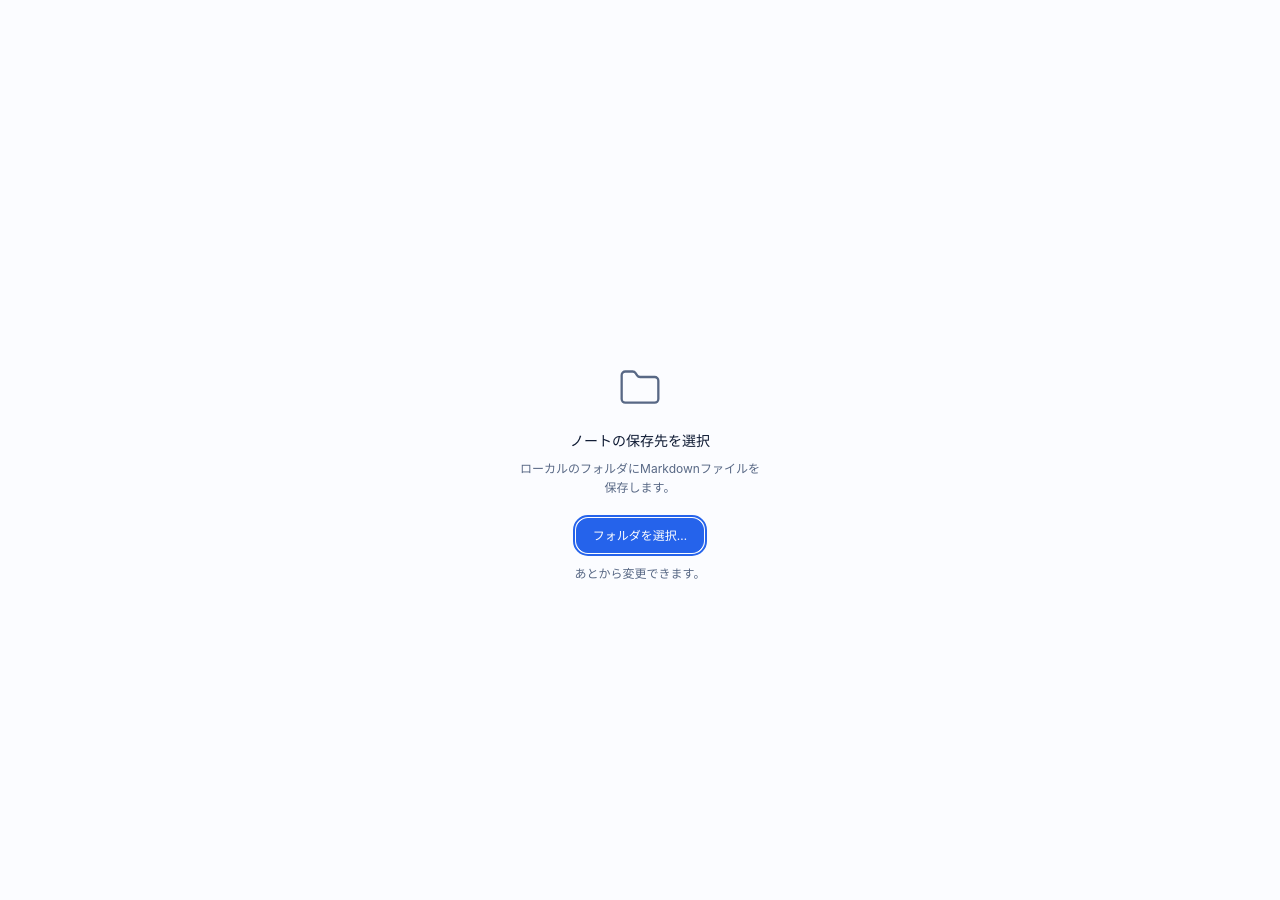
初回起動 › フォルダを開けなかったとき、通知で知らせる
Click the button named "フォルダを選択…" at {"x": 640, "y": 535}, box 576,518 -> 704,553
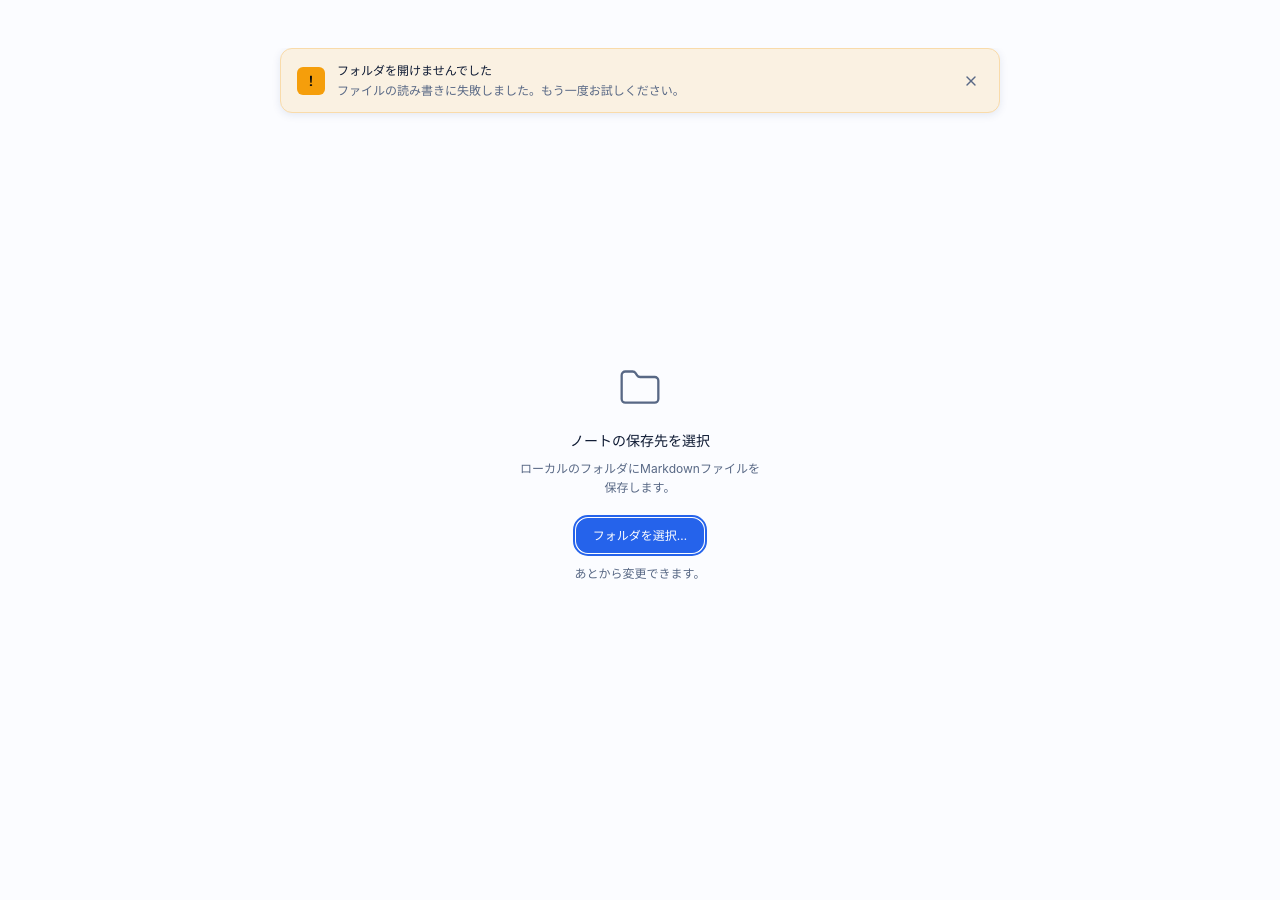
Expected: the 2nd text "フォルダを開けませんでした" is shown, 337,63 -> 492,78
